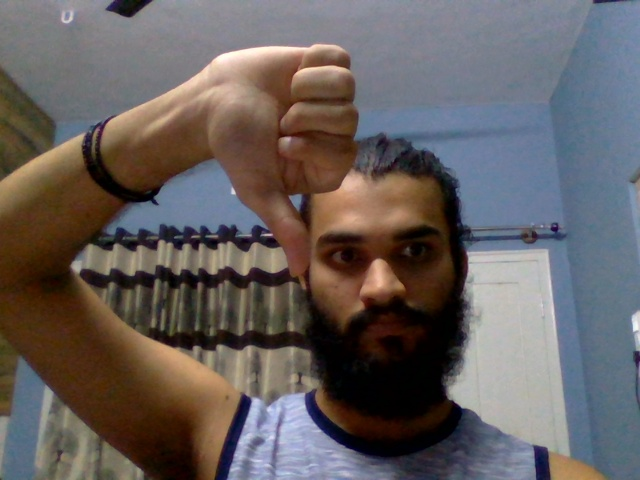ThumbsDown: (203, 43, 361, 277)
